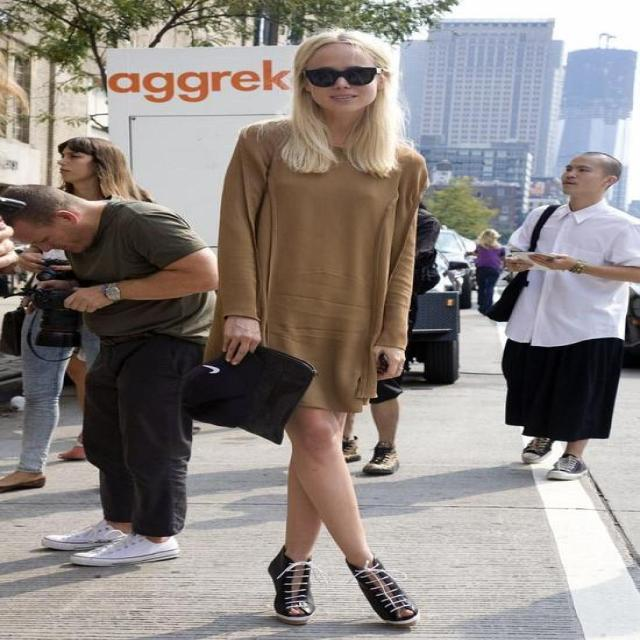Tshirt: (60, 193, 219, 337)
dress: (210, 117, 427, 413)
pants: (81, 324, 203, 536), (502, 328, 622, 439)
shirt: (501, 202, 640, 348)
